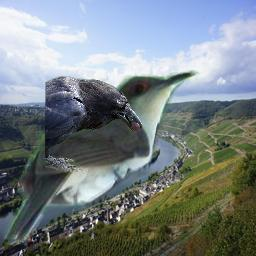Crow: (45, 76, 143, 172)
Cuckoo: (3, 70, 200, 246)
